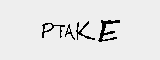А: (62, 21, 75, 41)
Е: (98, 17, 123, 42)
К: (74, 20, 95, 41)
Р: (39, 20, 55, 39)
Т: (53, 21, 66, 41)
